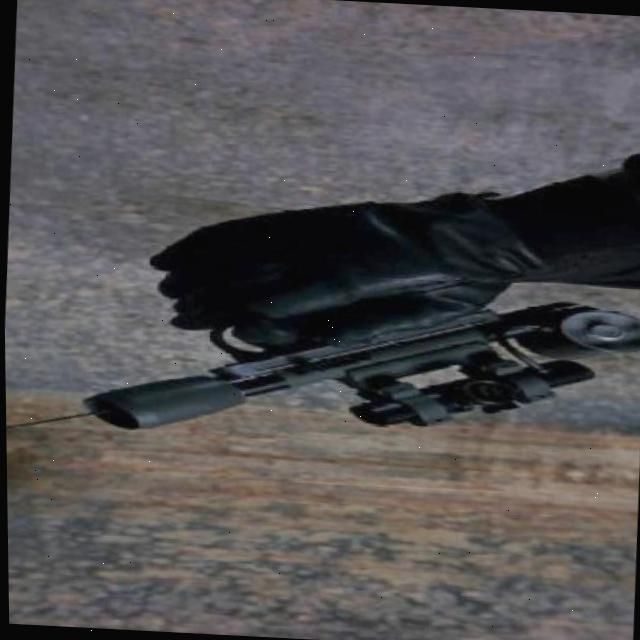gun: (65, 234, 640, 472)
